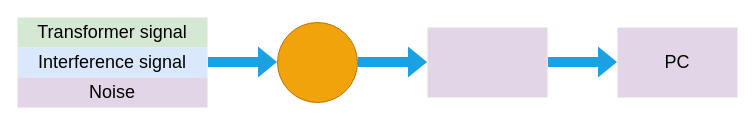
Image size: 754x124. Some labels were removed from this diagram. The centre of each missing label's shape, as x and y in pixels:
"MEMS信号采集板" goes at (x=487, y=62).
"Multi-arm spiral array" goes at (x=317, y=62).
